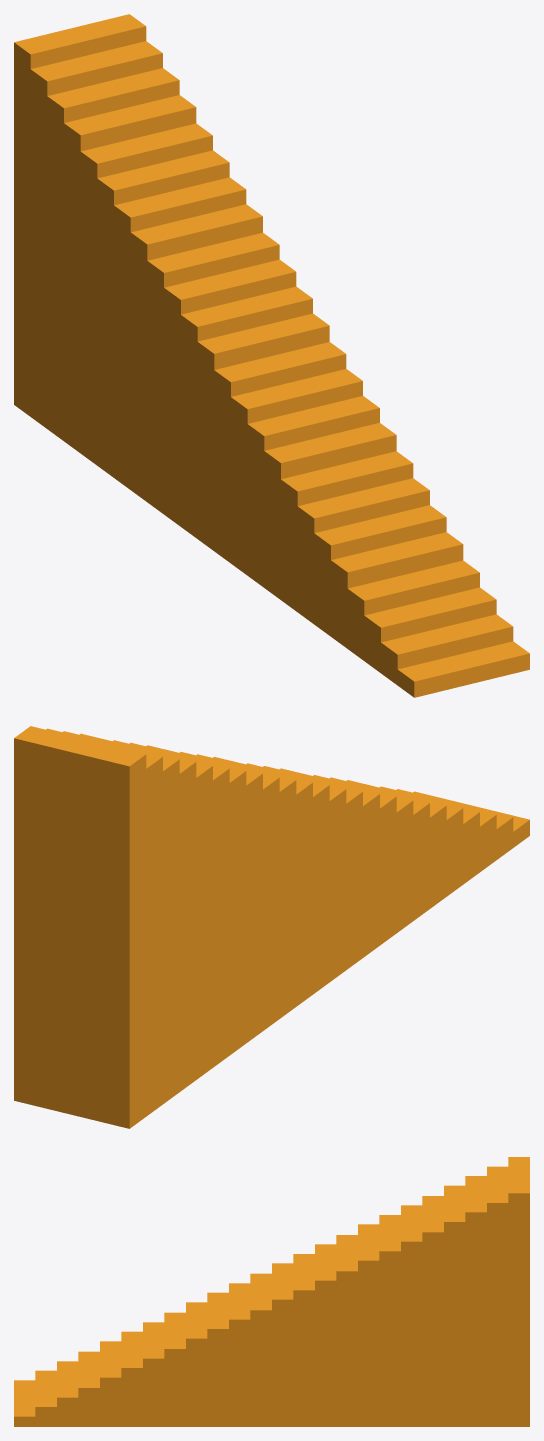
The model's file is SM_Buildings_Stairs_1x3_01.fbx.
The picture shows the model from 3 angles, top to bottom: view 1: azimuth 30°, elevation 25°; view 2: azimuth 150°, elevation 25°; view 3: azimuth 270°, elevation 25°; orthographic projection. The views are drawn at different scales.
Parts seen in each view (by area): view 1: SM_Buildings_Stairs_1x3_01; view 2: SM_Buildings_Stairs_1x3_01; view 3: SM_Buildings_Stairs_1x3_01.
Part boxes in pixels (bbox=[...]): SM_Buildings_Stairs_1x3_01: bbox=[14, 14, 529, 697]; SM_Buildings_Stairs_1x3_01: bbox=[14, 726, 529, 1128]; SM_Buildings_Stairs_1x3_01: bbox=[14, 1157, 529, 1426].
Size of the model in its own units: 100 by 300 by 600.
